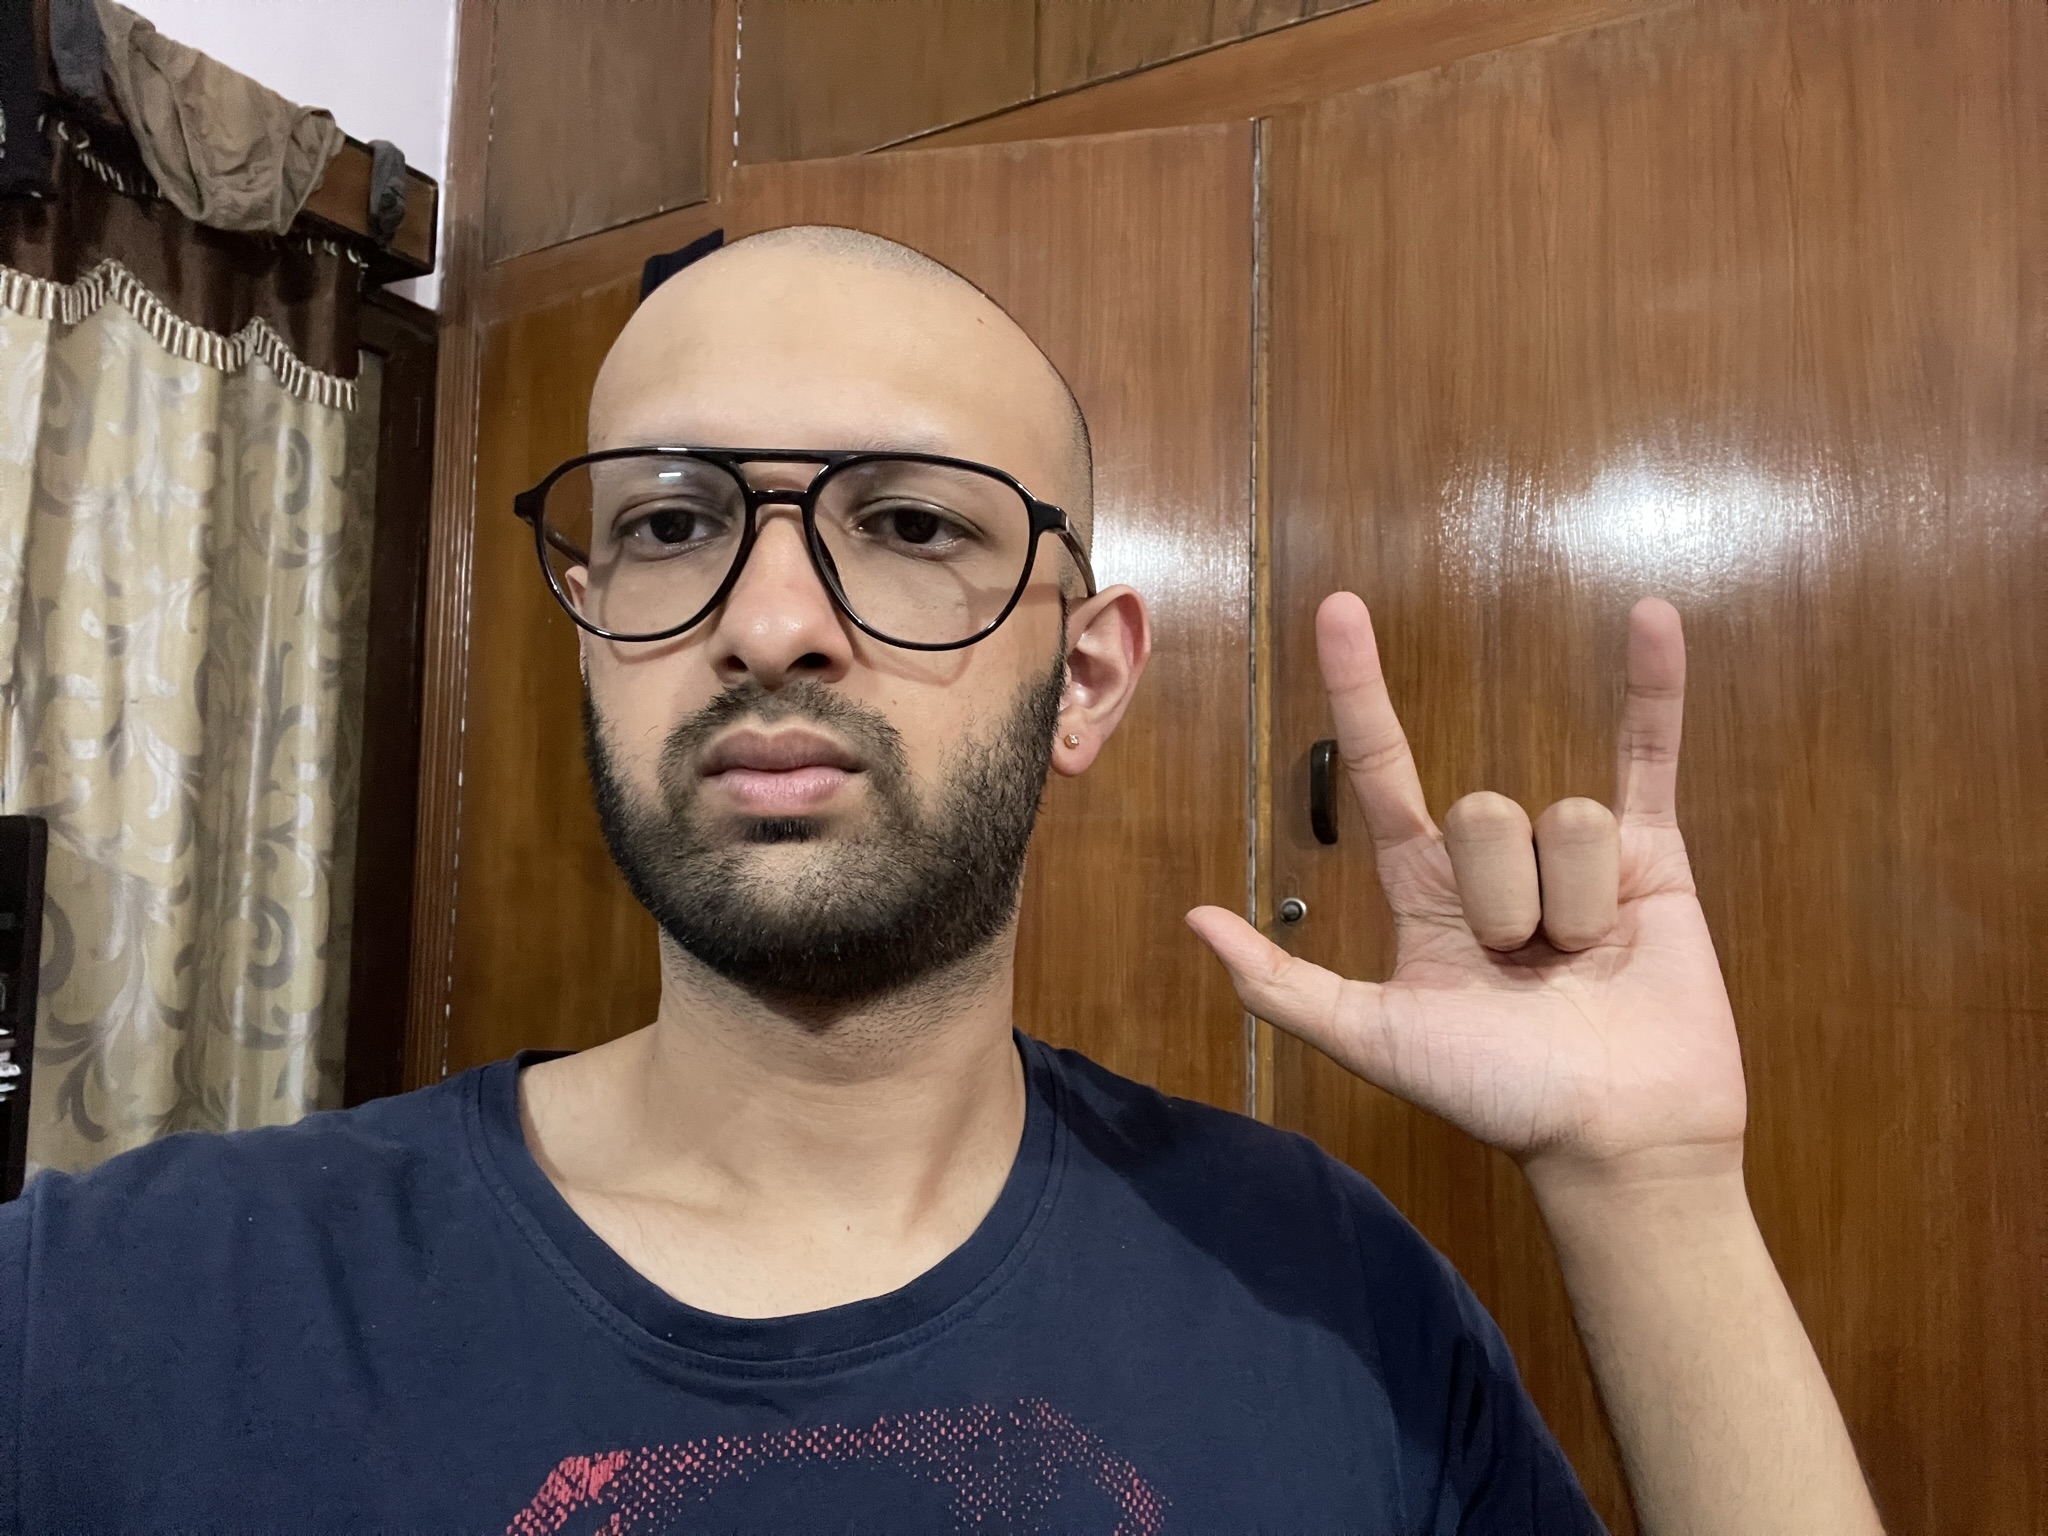I Love You: (1177, 578, 1758, 1170)
